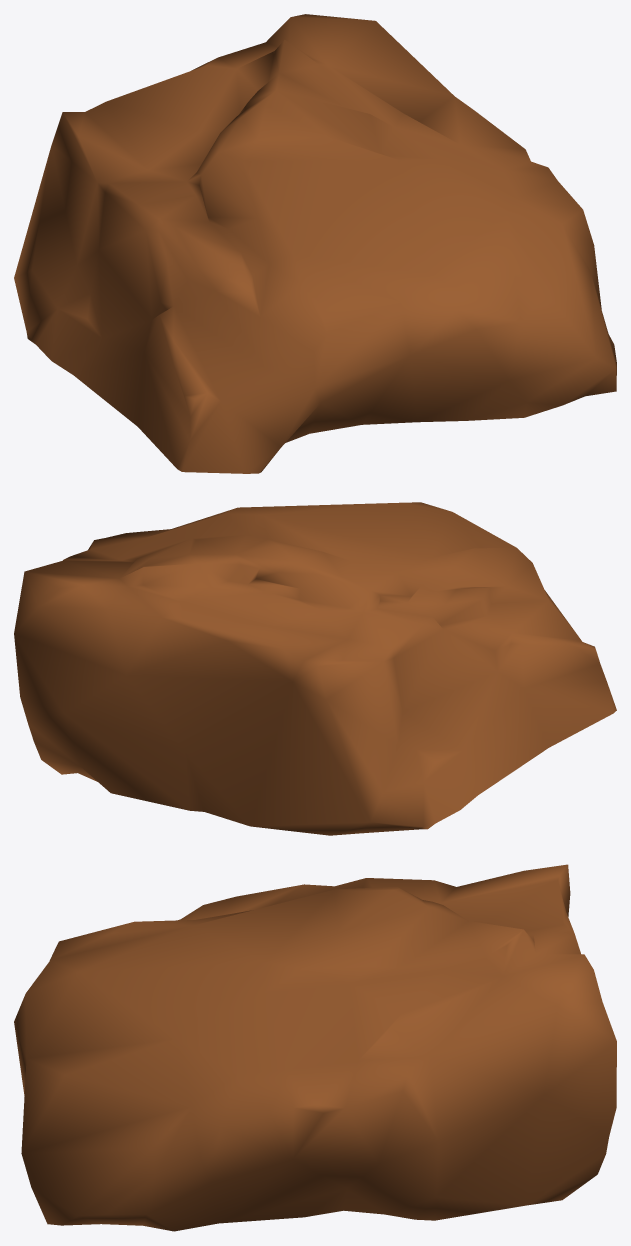
Rendered from Cliff_Rock01.FBX.
The picture shows the model from 3 angles, top to bottom: view 1: azimuth 30°, elevation 25°; view 2: azimuth 150°, elevation 25°; view 3: azimuth 270°, elevation 25°; orthographic projection. The views are drawn at different scales.
Parts seen in each view (by area): view 1: Cliff_Rock01; view 2: Cliff_Rock01; view 3: Cliff_Rock01.
Part boxes in pixels (x1,y1,x2,y2): Cliff_Rock01: (14,14,616,473); Cliff_Rock01: (14,502,616,835); Cliff_Rock01: (14,864,616,1231).
Size of the model in its own units: 262 by 119 by 276.
